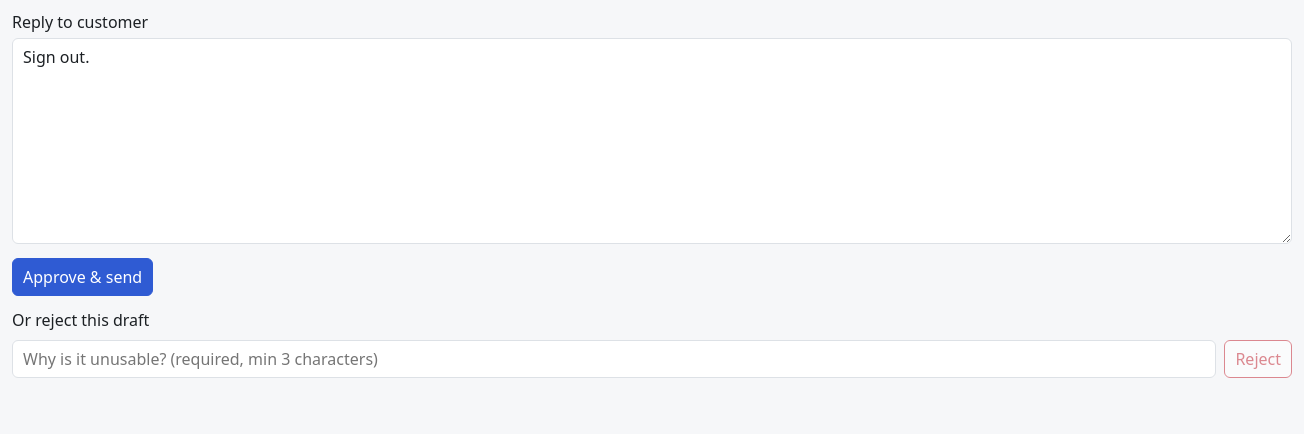
ReviewForm › shows the server error if the review fails
Step 1. Click the button "Approve & send" → click(83, 277), box top-left (12, 258), bottom-right (153, 296)
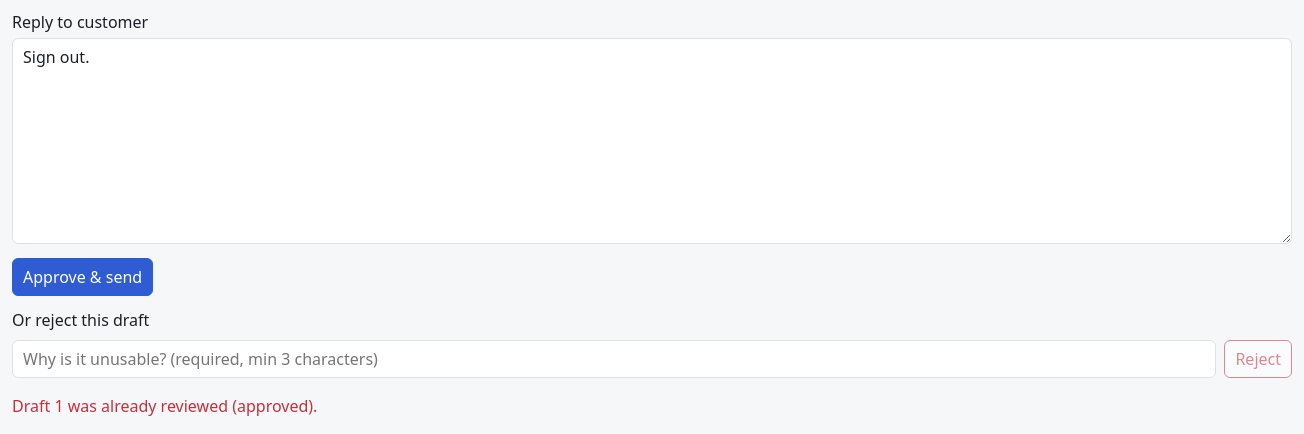
Result: the message shows "already reviewed" at top-left (12, 395), bottom-right (317, 417)
